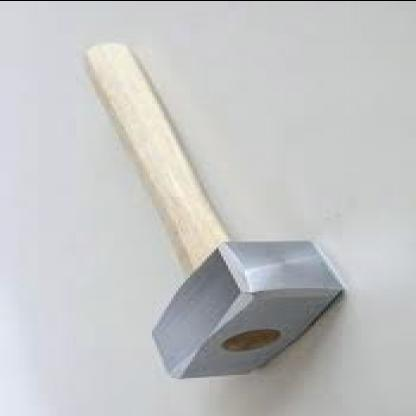Hammer: (78, 42, 348, 378)
